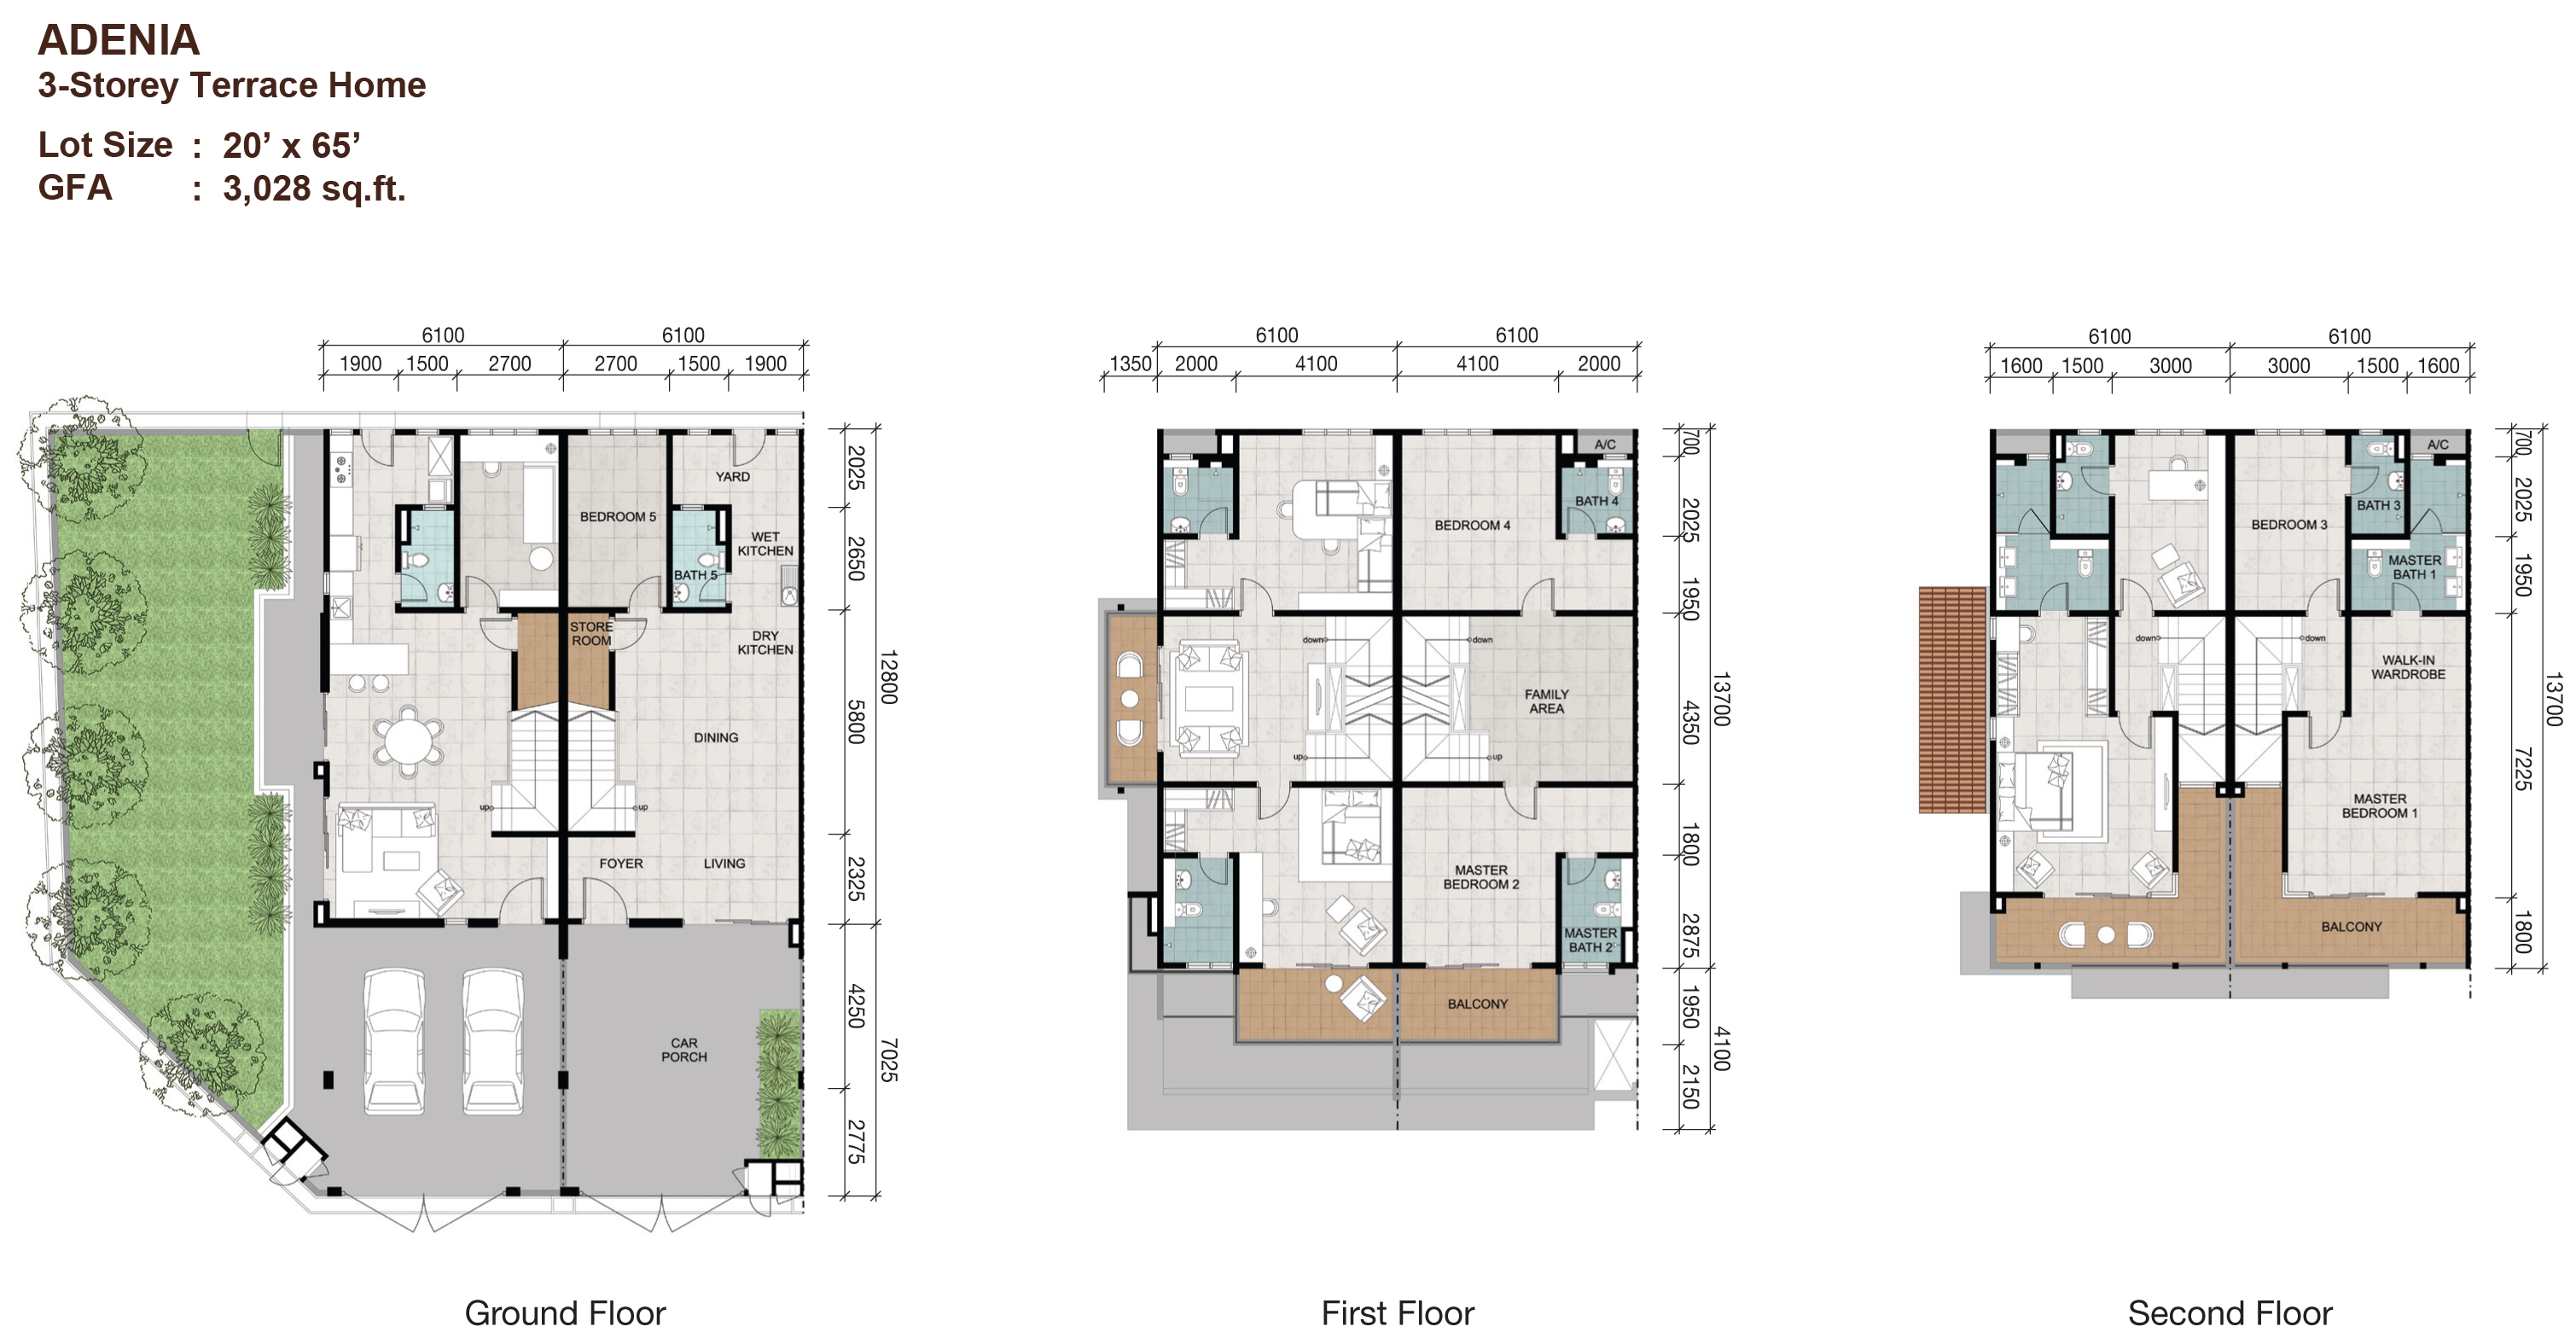door: (499, 870, 549, 918), (581, 874, 630, 922), (1521, 576, 1559, 610), (2118, 715, 2155, 750), (2307, 714, 2344, 748), (2118, 576, 2155, 610), (2036, 579, 2075, 612), (462, 572, 497, 606), (477, 615, 513, 649), (615, 615, 651, 649), (627, 574, 663, 608), (729, 433, 765, 467), (1256, 789, 1293, 821), (1501, 787, 1538, 819), (1239, 574, 1276, 606), (2305, 577, 2343, 610), (2387, 581, 2424, 613), (2080, 465, 2114, 496), (2348, 465, 2382, 494), (2411, 506, 2443, 535)
